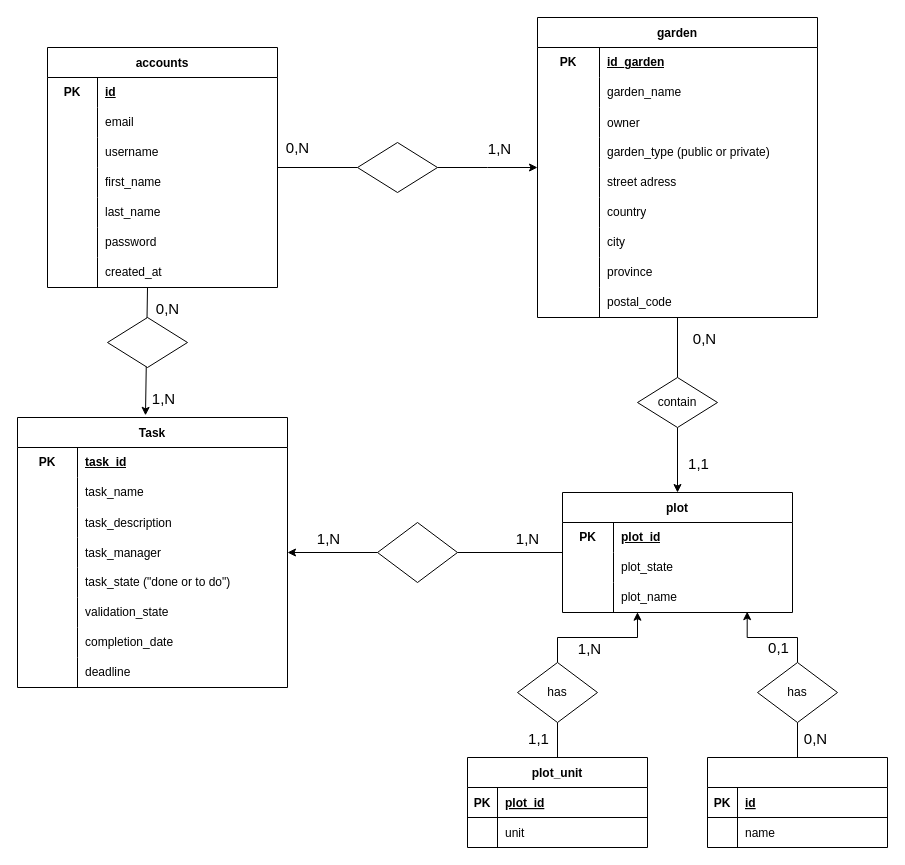
This 905x865 diagram has some shape labels left out. The shapes that lost their labels are listed below. From the top down, each one's box as (x1, y1, x2, y2) in pixels, then its label:
(356, 142, 438, 192): link
(106, 316, 188, 368): do
(376, 522, 458, 582): own
(706, 756, 888, 848): plant
